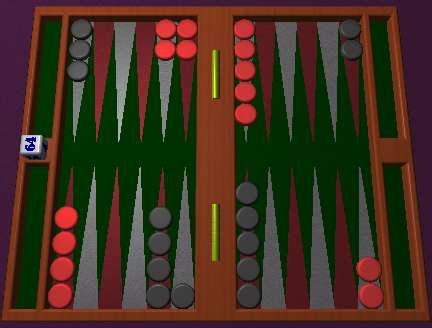checker: (358, 282, 384, 307), (356, 256, 382, 281), (171, 283, 195, 309), (53, 205, 77, 229), (51, 230, 75, 254), (50, 256, 74, 280), (48, 283, 72, 307), (147, 230, 171, 254), (147, 257, 171, 281), (146, 283, 170, 307), (235, 180, 259, 204), (235, 205, 259, 229), (236, 231, 260, 255), (236, 257, 260, 281), (237, 284, 261, 308), (338, 16, 362, 39), (233, 101, 257, 124), (234, 79, 258, 102), (149, 207, 172, 229), (176, 17, 198, 39), (341, 39, 363, 61), (234, 59, 256, 80), (233, 38, 255, 59), (233, 18, 255, 39), (154, 39, 176, 60), (155, 18, 177, 39), (66, 59, 88, 80), (68, 38, 90, 59), (70, 17, 92, 38), (177, 40, 198, 60)
